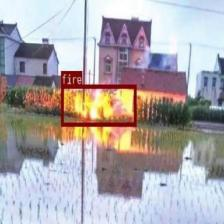fire: (60, 84, 136, 125)
